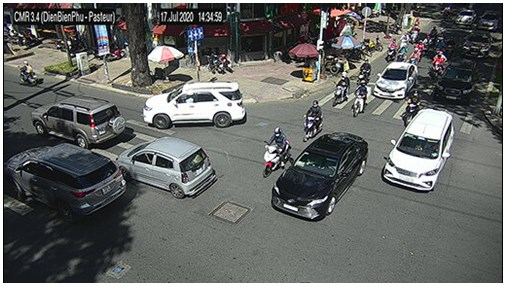xe_hoi: (5, 143, 126, 220), (272, 131, 369, 221), (116, 136, 216, 199), (382, 108, 454, 192), (142, 81, 246, 128), (31, 97, 125, 149), (436, 58, 476, 102), (373, 61, 418, 100), (463, 32, 492, 57), (455, 9, 476, 28), (479, 11, 499, 30)
xe_may: (262, 126, 291, 176), (303, 100, 323, 141), (402, 90, 423, 126), (333, 72, 350, 107), (352, 80, 368, 117), (20, 60, 38, 86), (432, 50, 447, 81), (358, 58, 371, 84), (387, 37, 397, 62), (409, 23, 420, 44), (408, 48, 420, 67), (435, 36, 445, 56), (422, 36, 432, 55), (429, 26, 438, 45), (399, 35, 408, 53), (397, 48, 407, 64)
